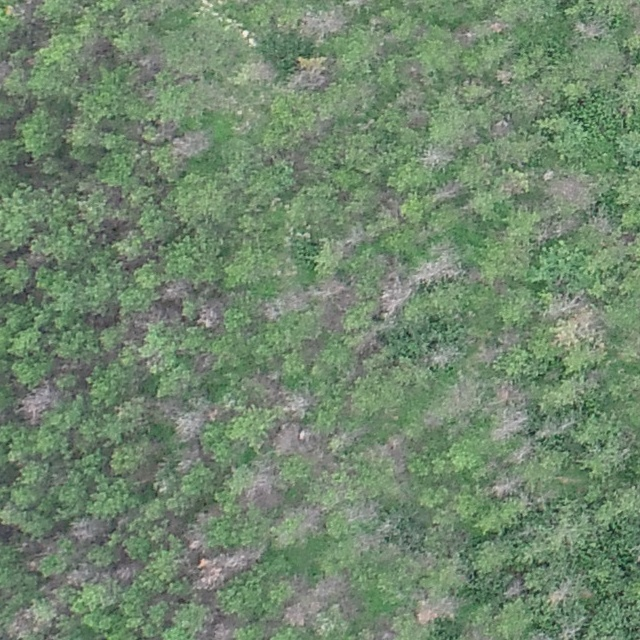unhealthy: (281, 571, 350, 629), (544, 291, 603, 340), (192, 546, 259, 589), (240, 461, 283, 510), (413, 246, 462, 285), (298, 5, 349, 40), (16, 381, 58, 423), (379, 269, 413, 319), (261, 286, 310, 319), (545, 173, 594, 206), (287, 56, 332, 90), (167, 130, 212, 161), (414, 593, 457, 625), (444, 378, 480, 416), (353, 521, 391, 554), (490, 410, 529, 442), (315, 276, 355, 307), (531, 214, 576, 241), (271, 422, 305, 457), (375, 432, 408, 468), (67, 516, 108, 544), (345, 497, 382, 526), (174, 409, 206, 442), (6, 605, 37, 638), (295, 503, 325, 537), (281, 389, 314, 419), (492, 378, 528, 405), (536, 416, 575, 440), (158, 276, 190, 303), (337, 226, 367, 254), (425, 343, 458, 368), (421, 143, 454, 168), (572, 18, 607, 41), (245, 58, 278, 82), (489, 475, 522, 499), (196, 301, 224, 329), (135, 50, 165, 76), (353, 329, 382, 355), (547, 579, 576, 605), (430, 181, 465, 202), (360, 621, 396, 639), (508, 440, 535, 464), (202, 620, 234, 640), (113, 560, 139, 583), (64, 565, 92, 586), (186, 530, 209, 554), (475, 343, 499, 365), (504, 575, 526, 599), (557, 621, 581, 639), (491, 118, 512, 138), (23, 252, 46, 267), (495, 69, 513, 86), (0, 57, 12, 81), (527, 628, 553, 639)
